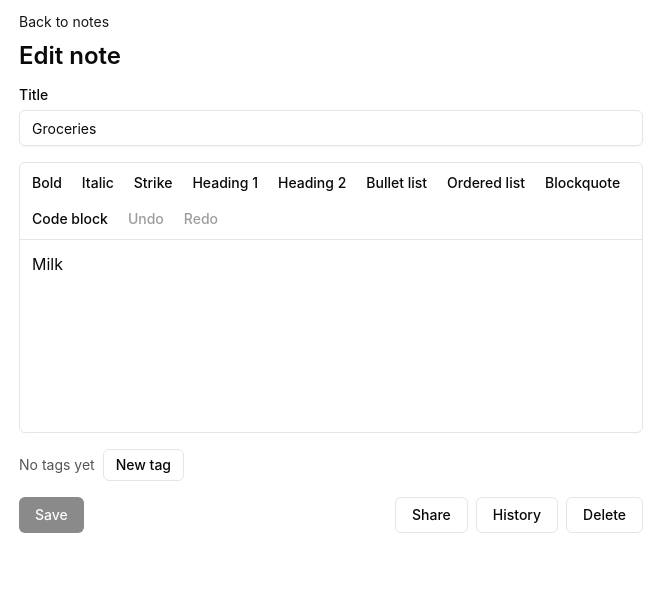
Test: NoteEditorPage autosave › Retry after a failed autosave
expect the field named "Note content" is shown: met, box left=32, top=254, right=63, bottom=274
Type "!" into the field labelled "Title" at (331, 128), box left=19, top=110, right=643, bottom=146
Wait 1000 ms
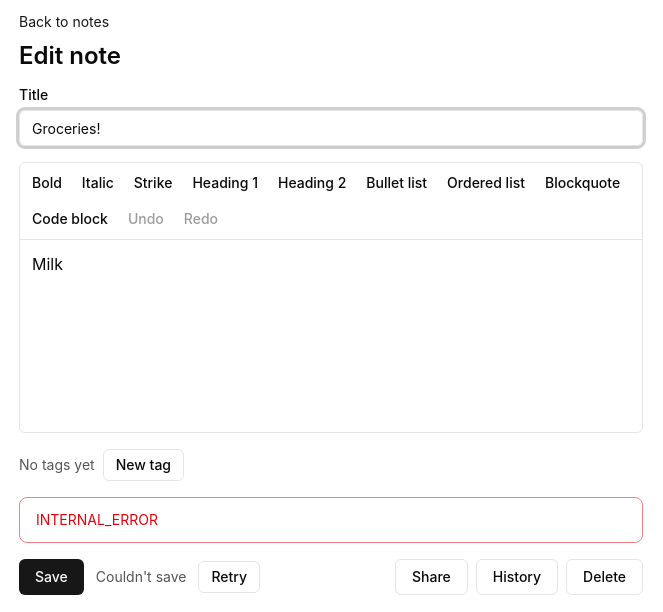
Click the button "Retry" at (229, 577), box left=198, top=561, right=260, bottom=593
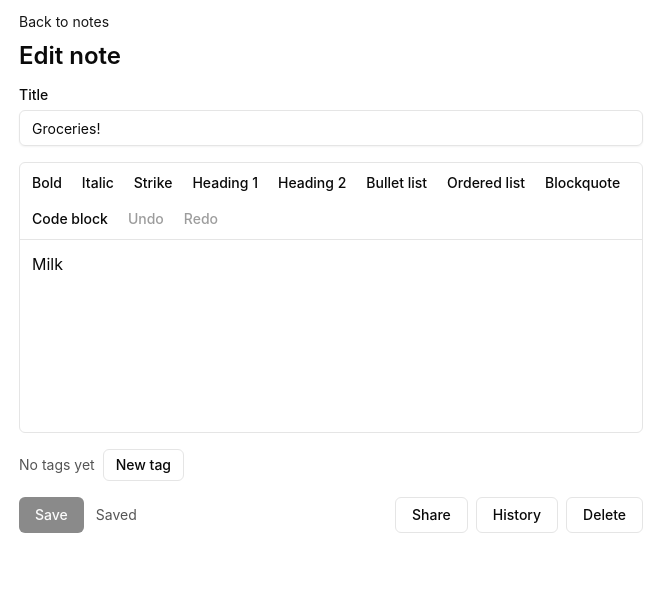
expect the text "Saved" is shown: met, box left=96, top=505, right=137, bottom=525
